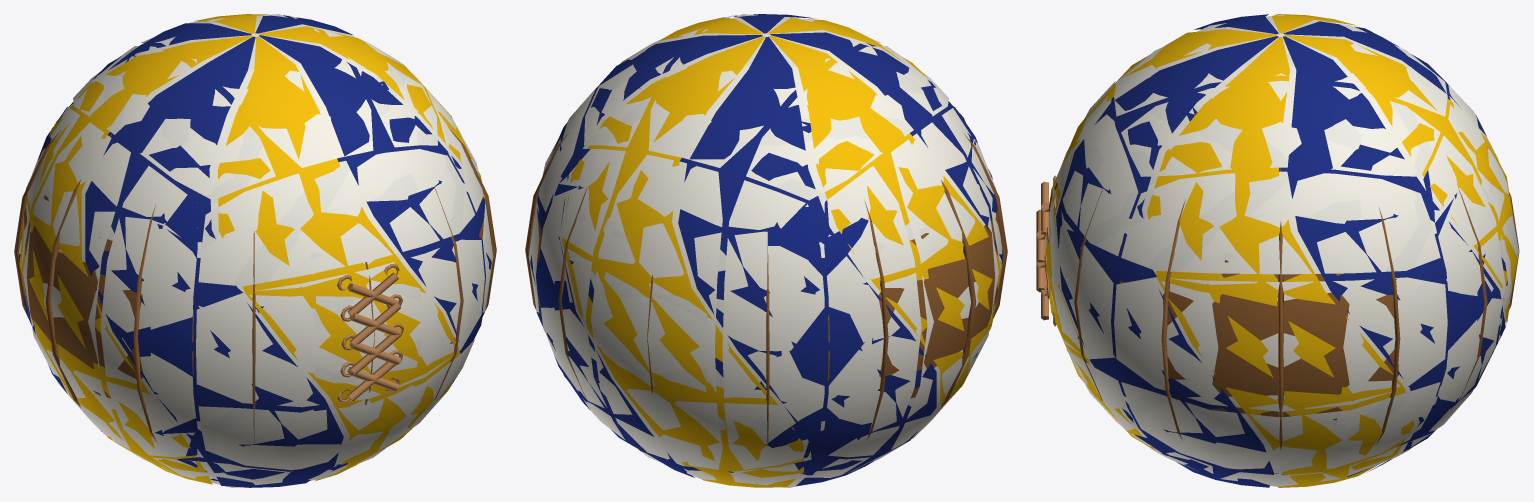
File: exhibits-atrium.6002cd90.glb
3 views of the same model, side by side, from view 1: azimuth 30°, elevation 25°; view 2: azimuth 150°, elevation 25°; view 3: azimuth 270°, elevation 25° (orthographic).
Visible parts, largest first — view 1: ball/classic-white-18-panel, ball/eight-panel-2008__yellow, ball/eight-panel-2008, ball/tricolour-1998, ball/leather-laced-1900__leather, ball/leather-laced-1900__fastenings, ball/tricolour-1998__blue; view 2: ball/classic-white-18-panel, ball/eight-panel-2008__yellow, ball/eight-panel-2008, ball/leather-laced-1900__leather, ball/tricolour-1998__blue, ball/tricolour-1998; view 3: ball/classic-white-18-panel, ball/eight-panel-2008__yellow, ball/eight-panel-2008, ball/tricolour-1998, ball/leather-laced-1900__leather, ball/tricolour-1998__blue, ball/leather-laced-1900__fastenings.
Boxes of the visible parts, x1,y1,x2,y2 form: ball/classic-white-18-panel: (19,14,493,487); ball/eight-panel-2008__yellow: (19,14,485,484); ball/eight-panel-2008: (19,15,491,487); ball/tricolour-1998: (36,20,483,479); ball/leather-laced-1900__leather: (14,127,496,444); ball/leather-laced-1900__fastenings: (337,264,403,403); ball/tricolour-1998__blue: (37,107,347,472); ball/classic-white-18-panel: (528,14,1002,487); ball/eight-panel-2008__yellow: (562,17,1002,487); ball/eight-panel-2008: (530,14,1002,486); ball/leather-laced-1900__leather: (525,133,1007,445); ball/tricolour-1998__blue: (537,107,1002,475); ball/tricolour-1998: (538,20,979,461); ball/classic-white-18-panel: (1044,15,1518,486); ball/eight-panel-2008__yellow: (1045,14,1516,487); ball/eight-panel-2008: (1056,14,1507,487); ball/tricolour-1998: (1051,21,1511,473); ball/leather-laced-1900__leather: (1044,146,1519,450); ball/tricolour-1998__blue: (1134,170,1491,476); ball/leather-laced-1900__fastenings: (1036,175,1056,326).
Size of the model in its own units: 0.2136 by 0.21 by 0.213.
